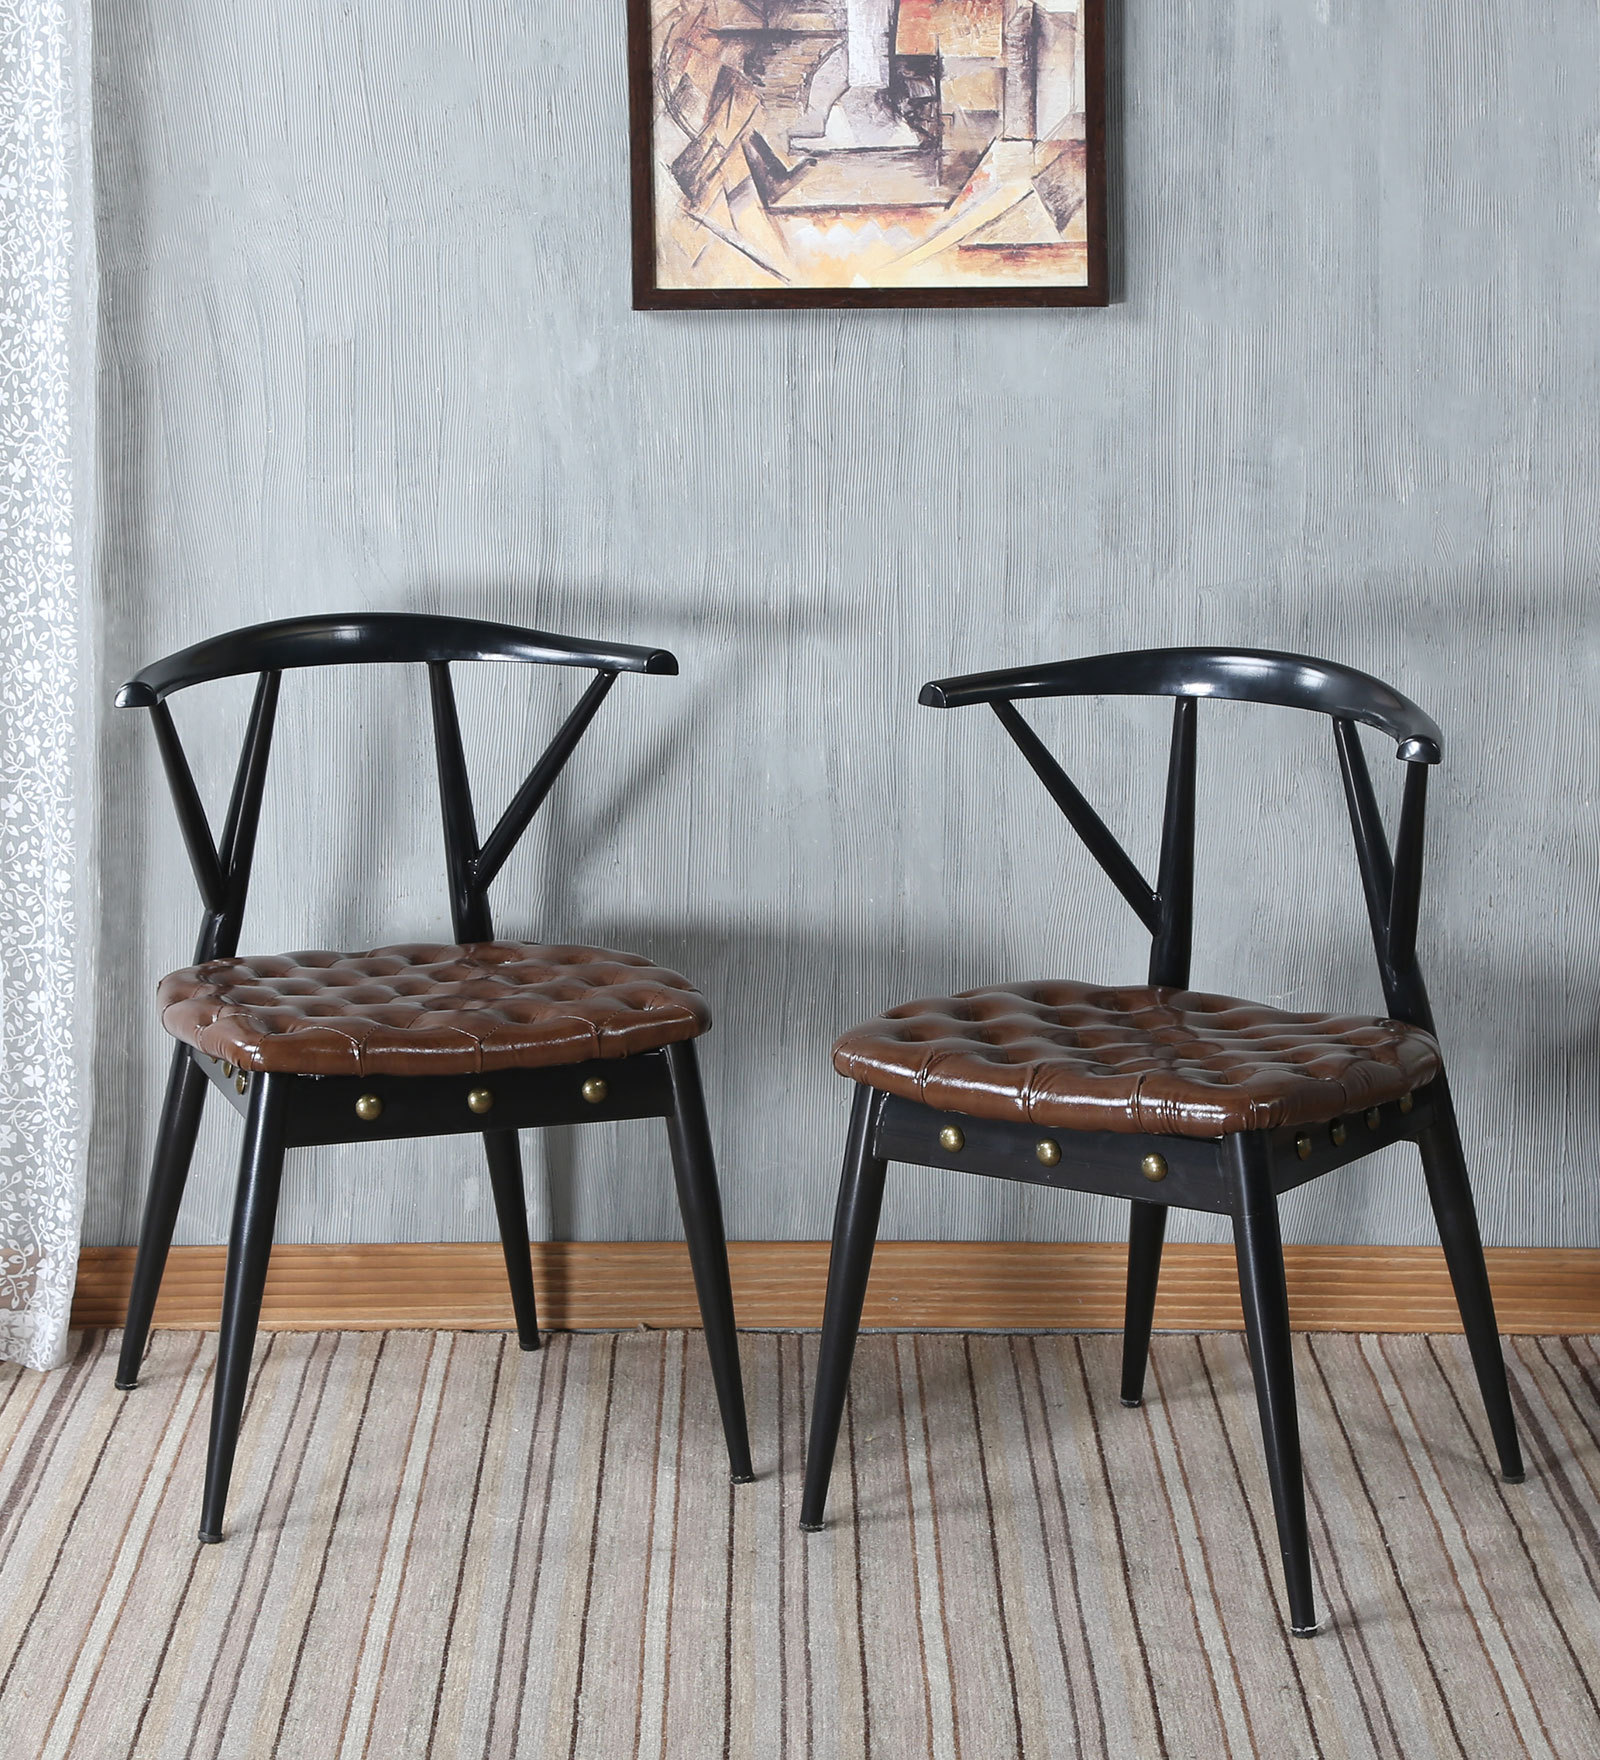Negus Metal Chair (Set of 2) in Black Colour by Bohemiana: (825, 627, 1543, 1645), (110, 609, 762, 1538)
